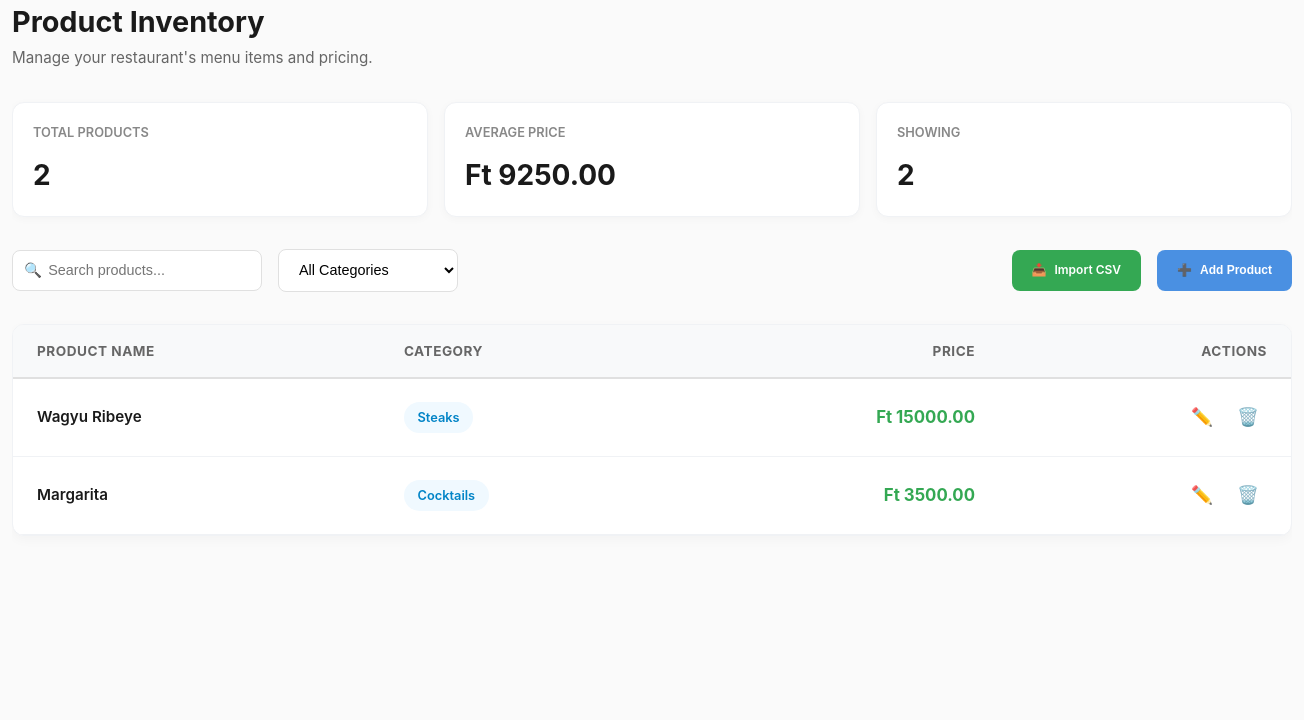
Test: Products Integration Tests › should render products list and filter by category
Expected: the text "Wagyu Ribeye" is shown, left=37, top=407, right=142, bottom=426
Expected: the text "Margarita" is shown, left=37, top=485, right=108, bottom=504
// Test category filter
Select "Steaks" in the dropdown showing "all categories" at [368, 270], box left=278, top=249, right=458, bottom=292
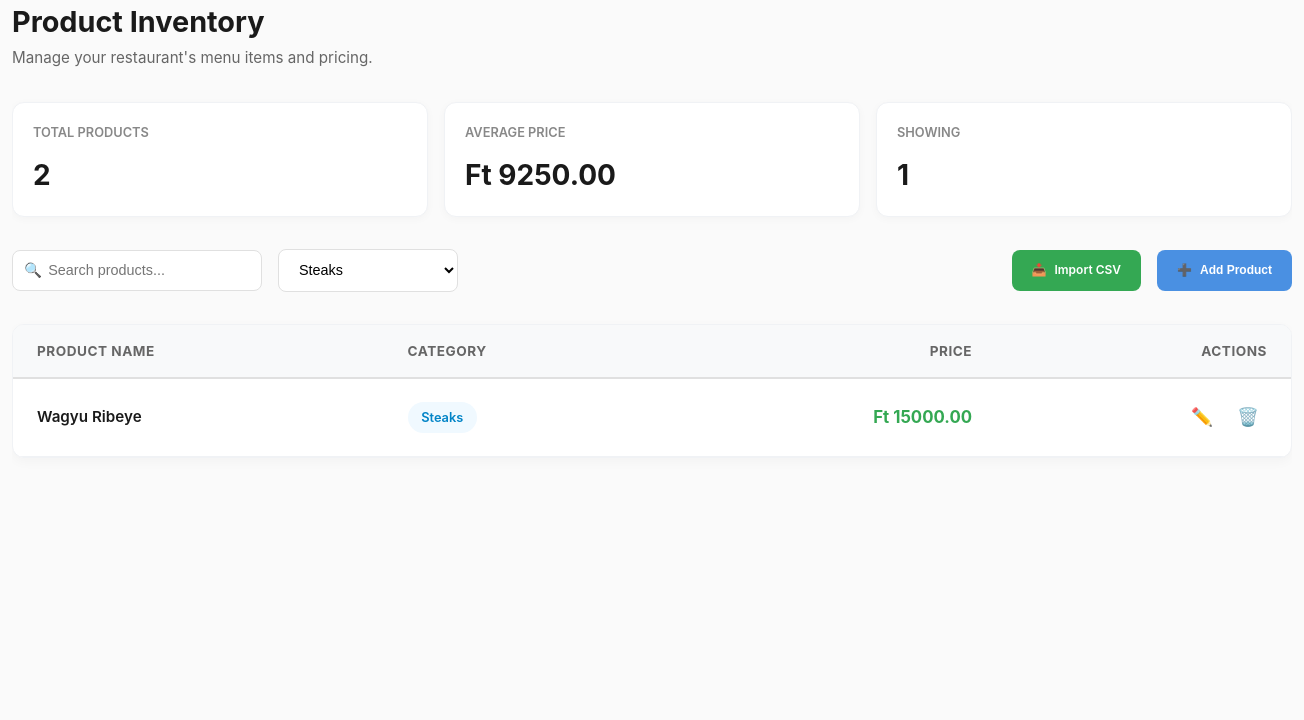
Expected: the text "Wagyu Ribeye" is shown, left=37, top=407, right=142, bottom=426
Expected: the text "Margarita" is gone
